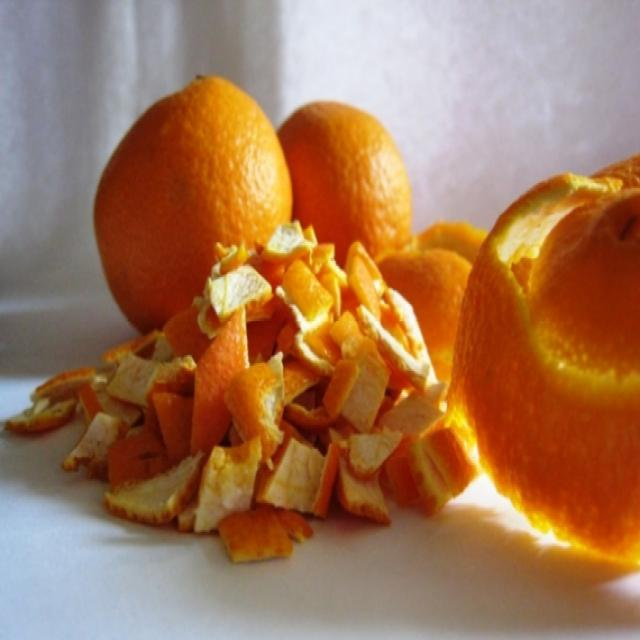Cascara de naranja: (4, 227, 484, 560), (444, 152, 640, 570), (90, 73, 294, 331)
